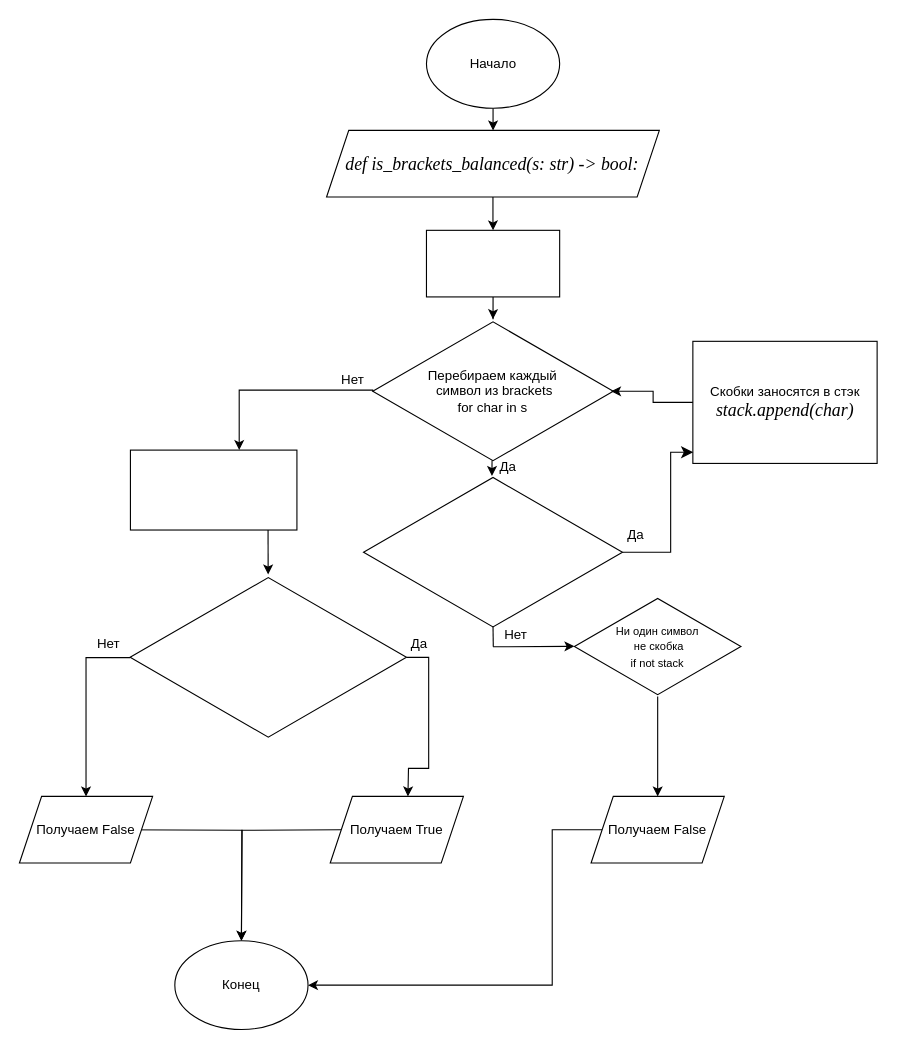
The diagram is 897 pixels wide and 1049 high, and some of its shapes have lost their labels. Here are the shapes that lost their labels. From the top down, the centre of each, then its label:
At (492,263): "Инициализация Пустого стека".
At (213,489): "Соответствует ли закрывающая открывающей stack.pop() != brackets[char]".
At (492,551): "Является ли символ скобкой if char in brackets . values ()".
At (267,656): "после обработки всей строки стек пуст ?".
